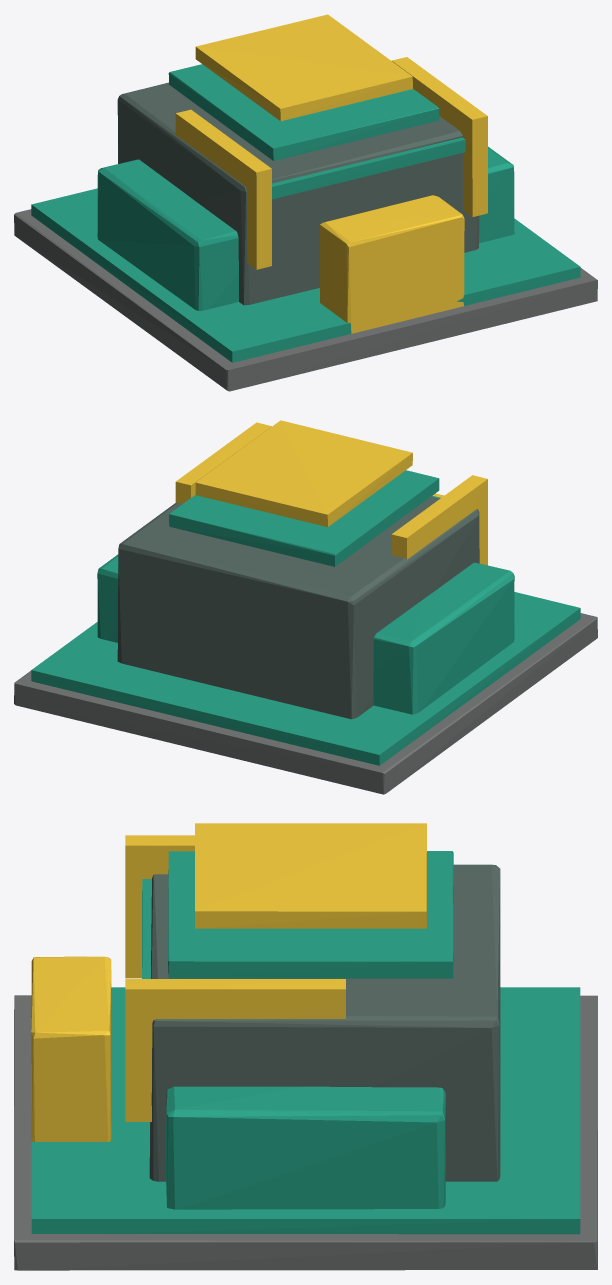
The model's file is SM_Coalition_CO_Barracks_LOD2.fbx.
The picture shows the model from 3 angles, top to bottom: view 1: azimuth 30°, elevation 25°; view 2: azimuth 150°, elevation 25°; view 3: azimuth 270°, elevation 25°; orthographic projection. The views are drawn at different scales.
Parts seen in each view (by area): view 1: LOD02_SM_Coalition_CO_Barracks; view 2: LOD02_SM_Coalition_CO_Barracks; view 3: LOD02_SM_Coalition_CO_Barracks.
Boxes of the visible parts, bbox=[...] form: LOD02_SM_Coalition_CO_Barracks: bbox=[14, 14, 597, 391]; LOD02_SM_Coalition_CO_Barracks: bbox=[14, 420, 597, 794]; LOD02_SM_Coalition_CO_Barracks: bbox=[14, 823, 597, 1270].
Size of the model in its own units: 599 by 598 by 317.
